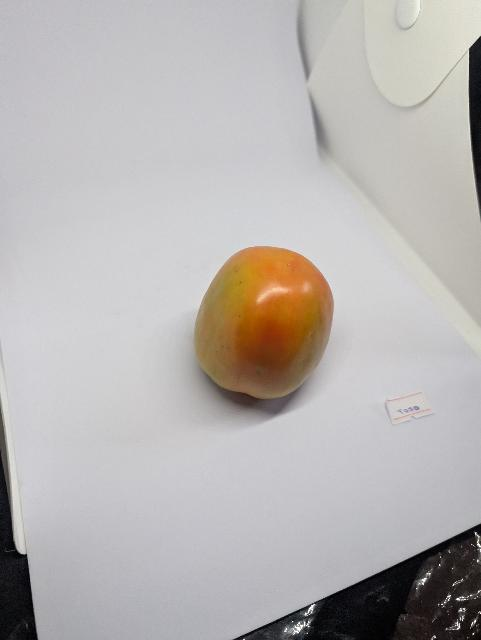turning: (191, 242, 347, 420)
